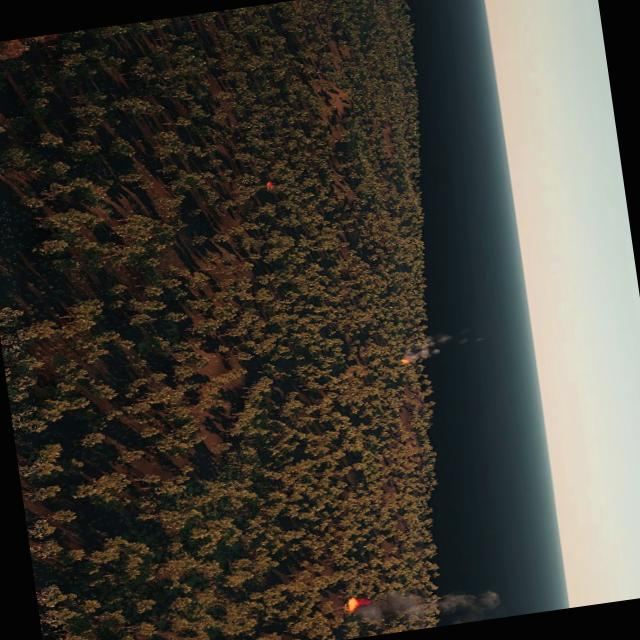fire: (344, 597, 364, 612), (398, 356, 409, 364), (264, 182, 274, 190)
smoke: (356, 589, 429, 637), (436, 587, 500, 626), (410, 326, 481, 359)
